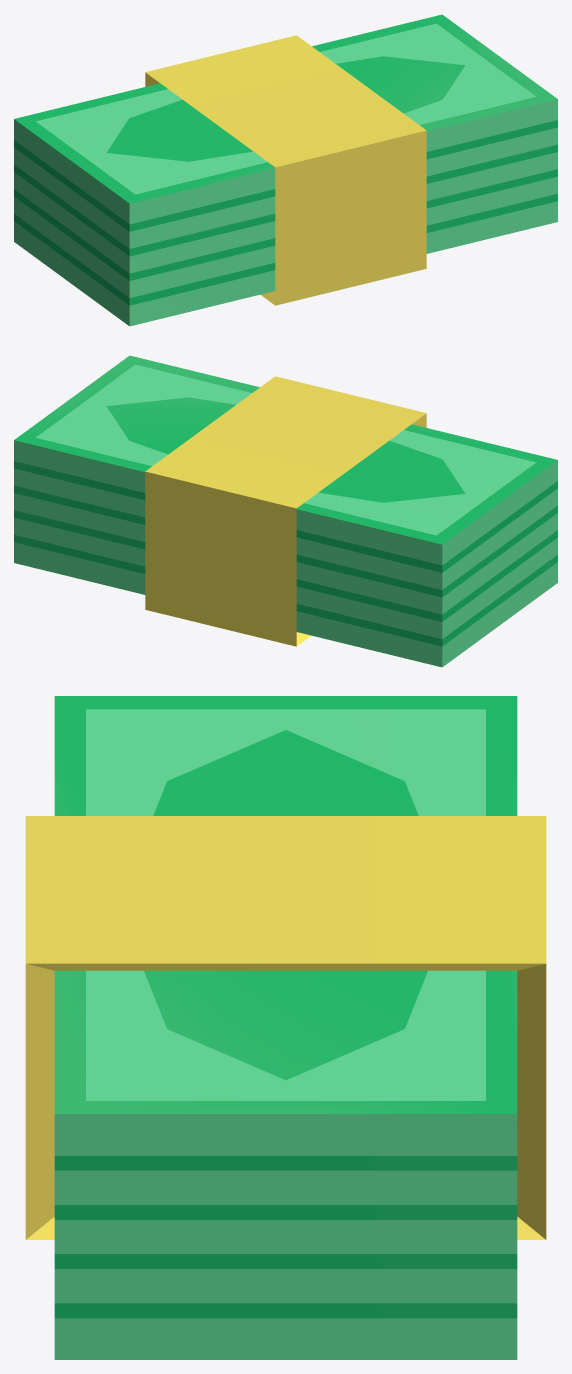
File: Money.fbx
The picture shows the model from 3 angles, top to bottom: view 1: azimuth 30°, elevation 25°; view 2: azimuth 150°, elevation 25°; view 3: azimuth 270°, elevation 25°; orthographic projection. The views are drawn at different scales.
Visible parts, largest first — view 1: money; view 2: money; view 3: money.
Part boxes in pixels (x1,y1,x2,y2): money: (14, 14, 557, 326); money: (14, 355, 557, 667); money: (25, 696, 546, 1359).
Bounding box in the file's own units: 69.21 × 21.34 × 36.43.
